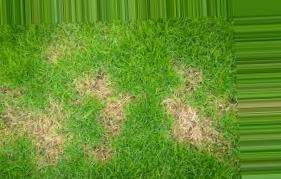patch: (79, 76, 138, 132), (14, 101, 61, 154), (165, 92, 203, 154), (175, 65, 207, 90), (52, 42, 64, 63)
